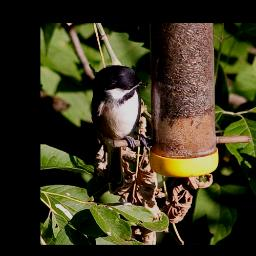Swallow: (89, 63, 152, 154)
